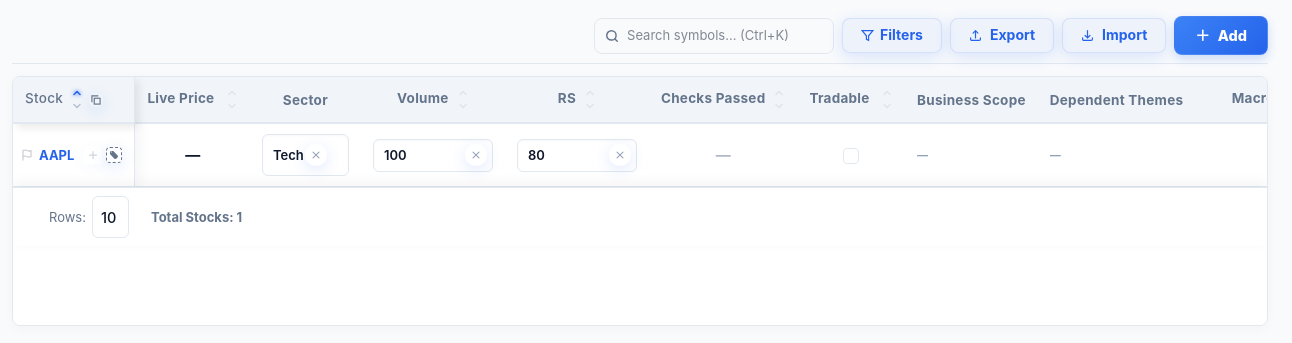
Test case: StockGrid › filters out AI tags from the inline tag picker dropdown
// Find the tag adder trigger for AAPL
Click the button titled "Add Tag(s) to AAPL". click: {"x": 114, "y": 155}
box: [106, 147, 122, 163]
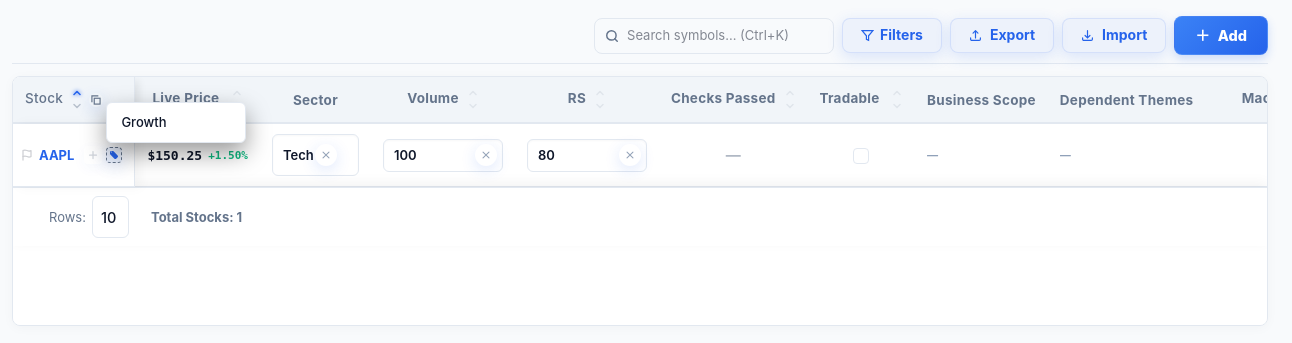
Check: the text "Growth" is shown, box [121, 114, 167, 130]
